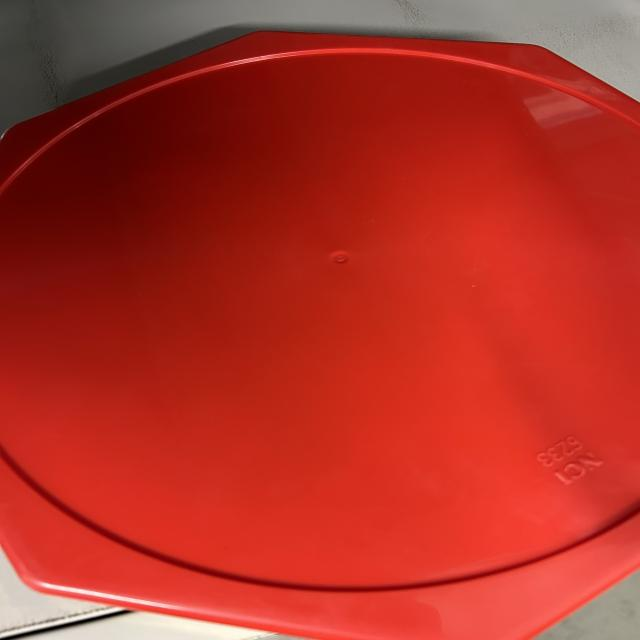object_name: (8, 45, 640, 631)
